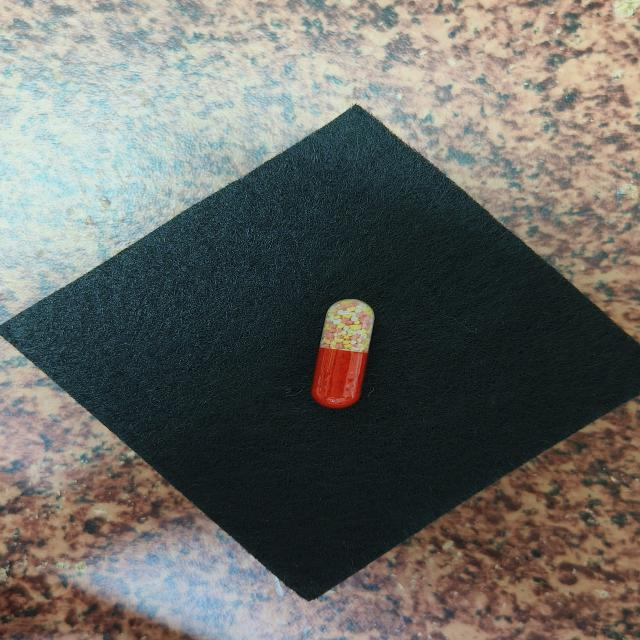Intact Capsule: (311, 298, 375, 409)
